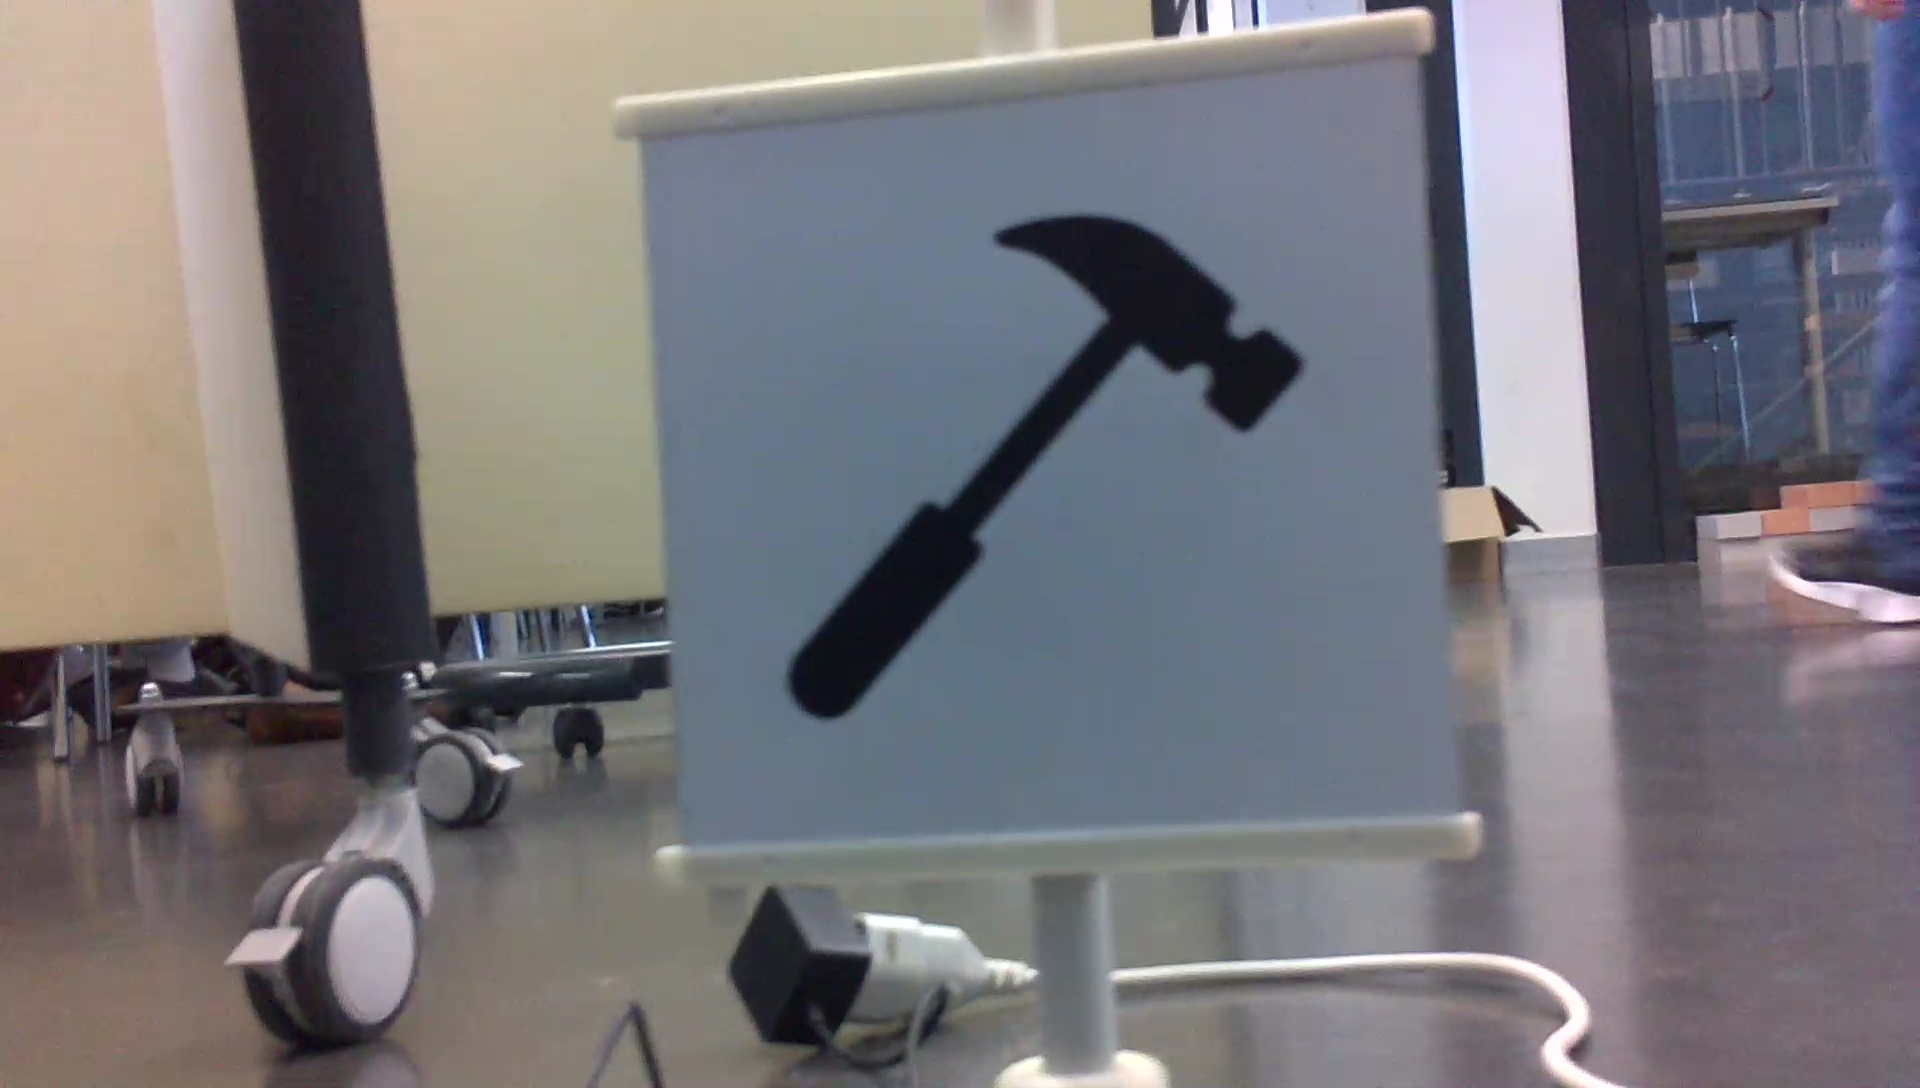hammer: (767, 203, 1315, 727)
